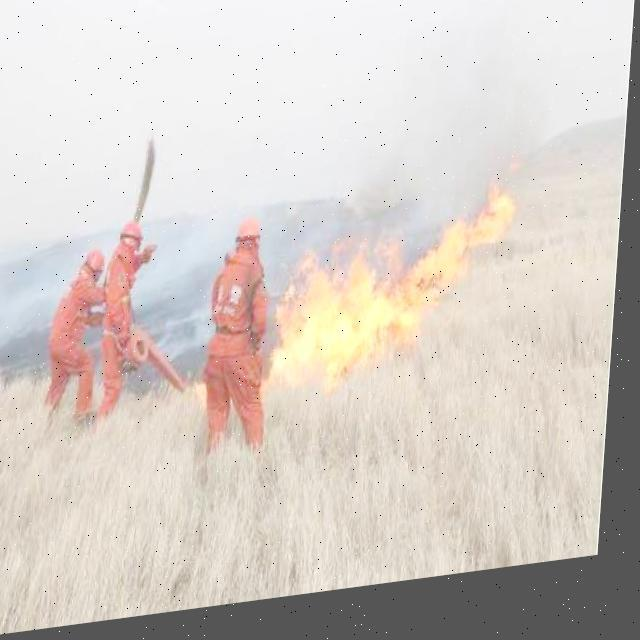Fire: (268, 195, 528, 406)
